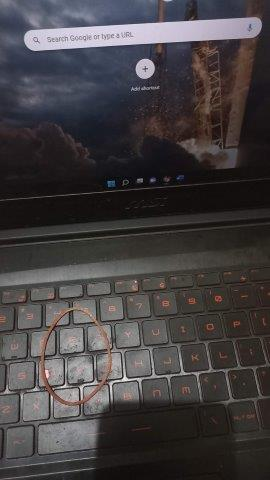karet: (40, 308, 111, 406)
